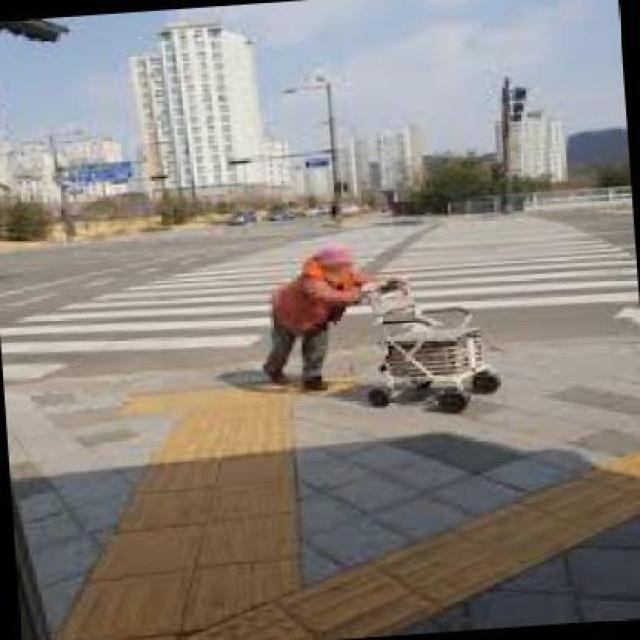Person: (253, 240, 416, 394)
